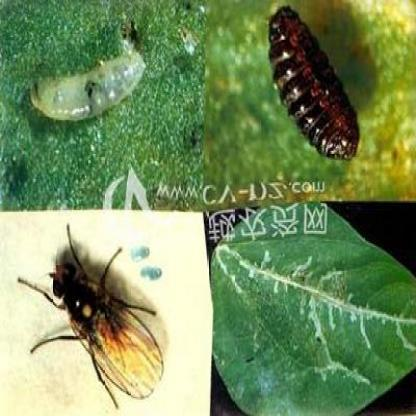whorl-maggot: (258, 3, 372, 163), (23, 43, 158, 124)
